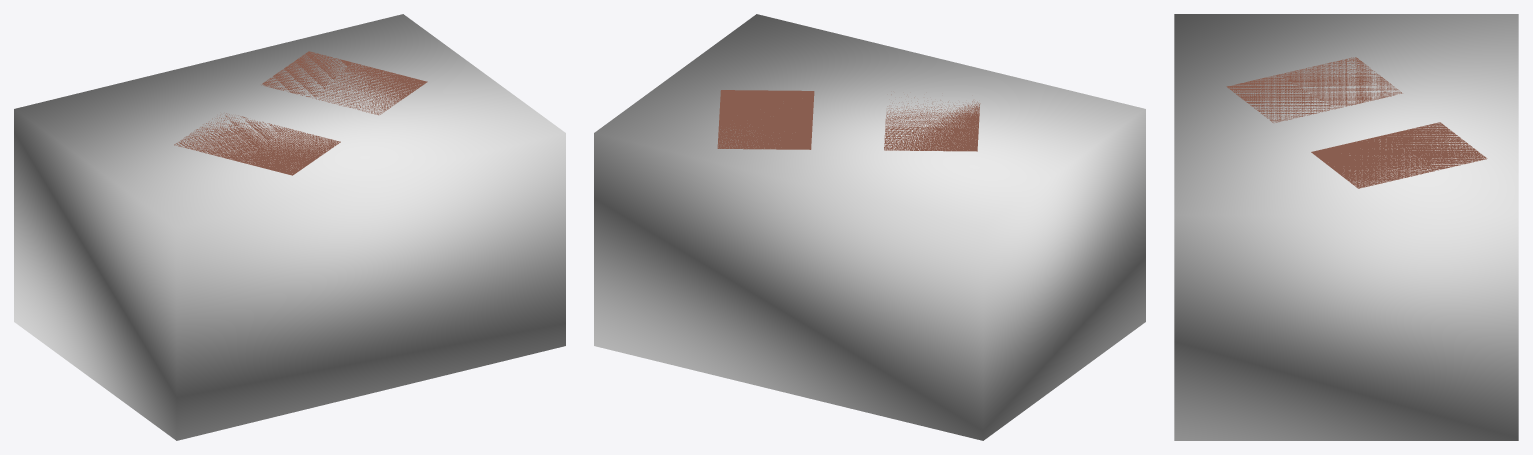
Rendered from item_brick_ground.glb.
3 views of the same model, side by side, from view 1: azimuth 30°, elevation 25°; view 2: azimuth 150°, elevation 25°; view 3: azimuth 270°, elevation 25° (orthographic). The views are drawn at different scales.
Parts seen in each view (by area): view 1: brick_ground-convcol, brick_ground; view 2: brick_ground-convcol, brick_ground; view 3: brick_ground-convcol, brick_ground.
Boxes of the visible parts, bbox=[...] form: brick_ground-convcol: bbox=[14, 14, 565, 440]; brick_ground: bbox=[174, 51, 427, 175]; brick_ground-convcol: bbox=[594, 14, 1145, 440]; brick_ground: bbox=[717, 90, 980, 151]; brick_ground-convcol: bbox=[1174, 14, 1518, 440]; brick_ground: bbox=[1226, 57, 1487, 188].
Bounding box in the file's own units: 0.216 × 0.113 × 0.1563.
